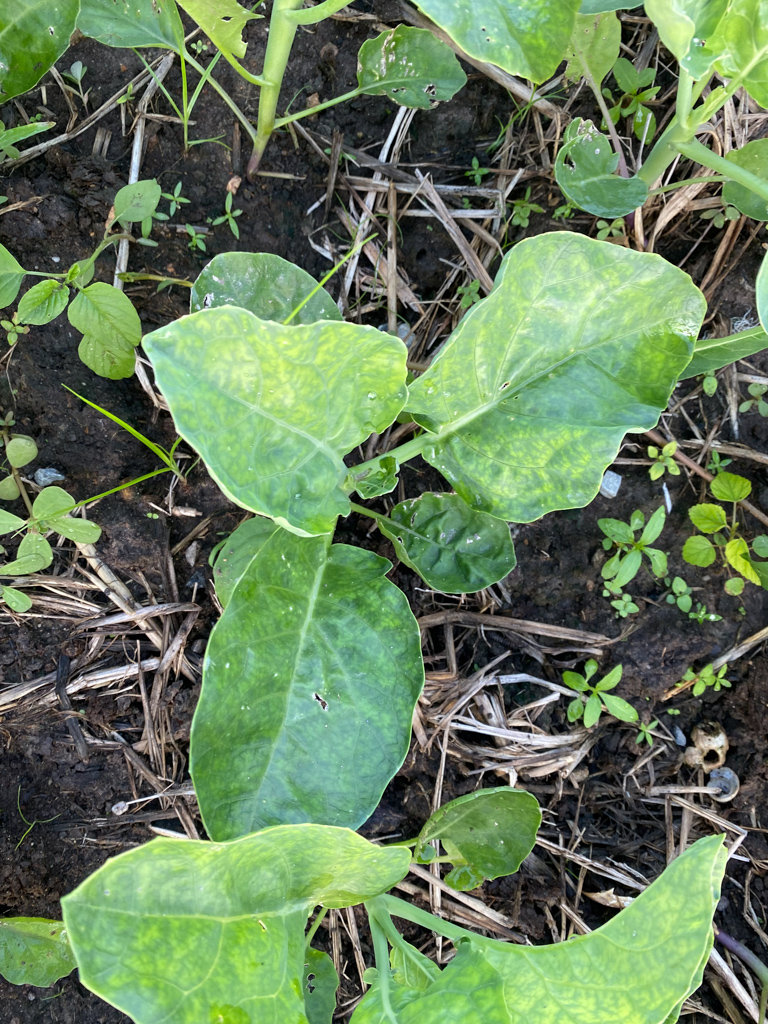Pepper yellow leaf: (162, 302, 403, 442)
